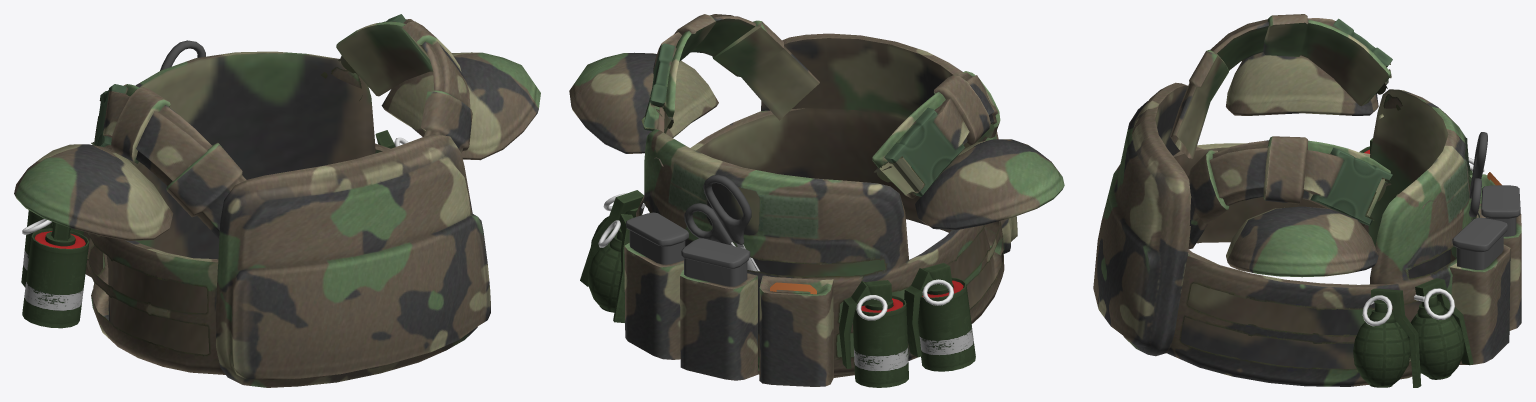
The model's file is IG_Armor_Lv4-2.fbx.
3 renders of one model, left to right at view 1: azimuth 30°, elevation 25°; view 2: azimuth 150°, elevation 25°; view 3: azimuth 270°, elevation 25°, orthographic. The views are drawn at different scales.
Visible parts, largest first — view 1: Clothes_LV5_3; view 2: Clothes_LV5_3; view 3: Clothes_LV5_3.
Boxes of the visible parts, x1,y1,x2,y2 form: Clothes_LV5_3: (14,14,540,387); Clothes_LV5_3: (569,14,1064,387); Clothes_LV5_3: (1093,14,1521,387).
Size of the model in its own units: 0.9341 by 0.4881 by 0.7309.
